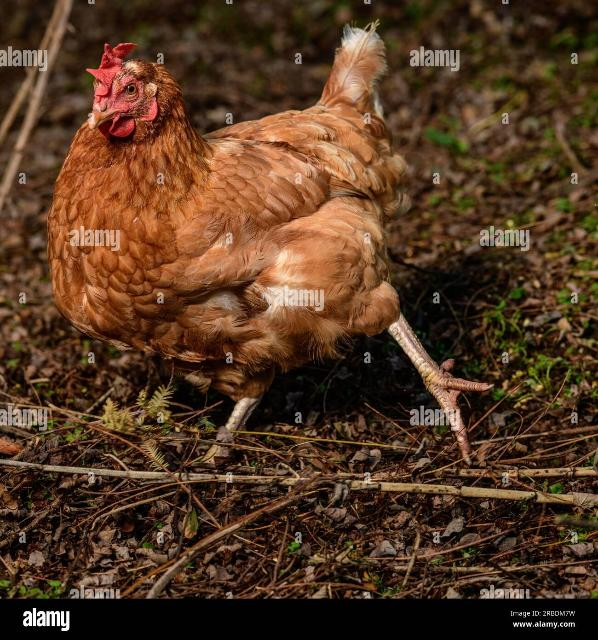Chicken: (46, 22, 492, 465)
